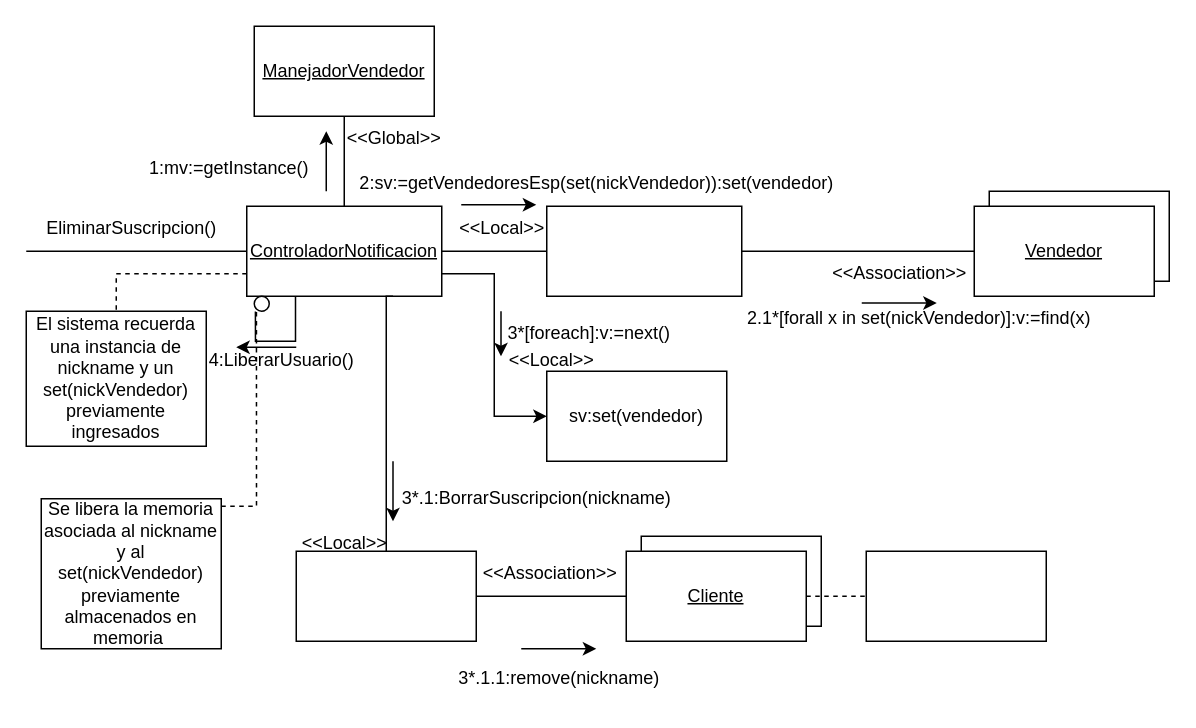
Some shapes in this 1196 by 728 pixel diagram are drawn without their labels. Each missing label, with the centre of its shape:
Colección de los clientes suscriptos al vendedor: [955,595]
mv:ManejadorVendedor: [643,250]
v:Vendedor: [385,595]
